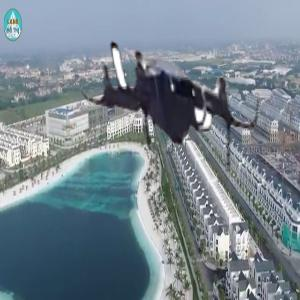drone: (70, 3, 267, 200)
